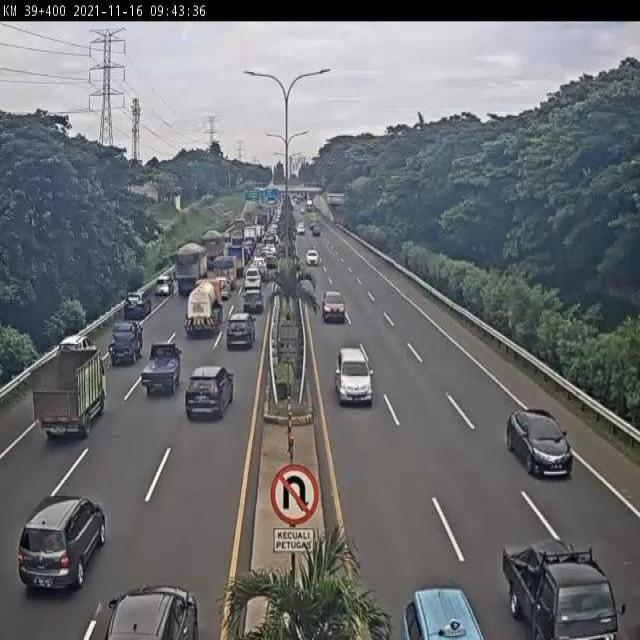car: (502, 529, 630, 640), (15, 491, 109, 600), (505, 403, 575, 481), (183, 362, 238, 422), (137, 344, 183, 405), (334, 343, 375, 409), (107, 319, 144, 368), (223, 318, 255, 358), (115, 294, 146, 326), (242, 290, 266, 318), (321, 284, 342, 315), (149, 279, 172, 305), (214, 275, 235, 301), (242, 270, 259, 294)
small truck: (24, 349, 105, 447)
truck-m-: (183, 274, 229, 338), (170, 242, 209, 298)
